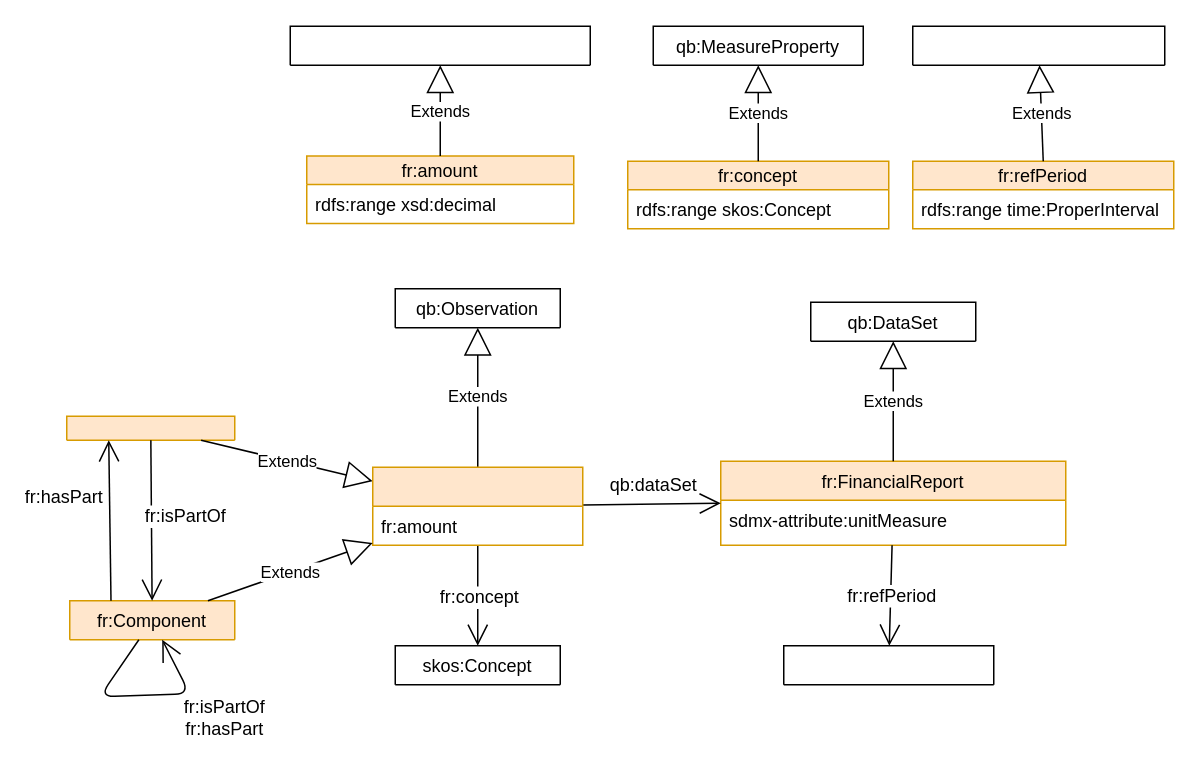
Some shapes in this 1202 by 767 pixel diagram are drawn without their labels. The shapes that lost their labels are listed below. From the top down, each one's box as (x1, y1, x2, y2) in pixels, then its label:
(289, 25, 590, 65): sdmx-measure:obsValue
(911, 25, 1165, 65): sdmx-dimension:refPeriod
(65, 415, 235, 440): fr:Fact
(371, 466, 583, 545): fr:StructuralComponent
(782, 644, 994, 685): time:ProperInterval
